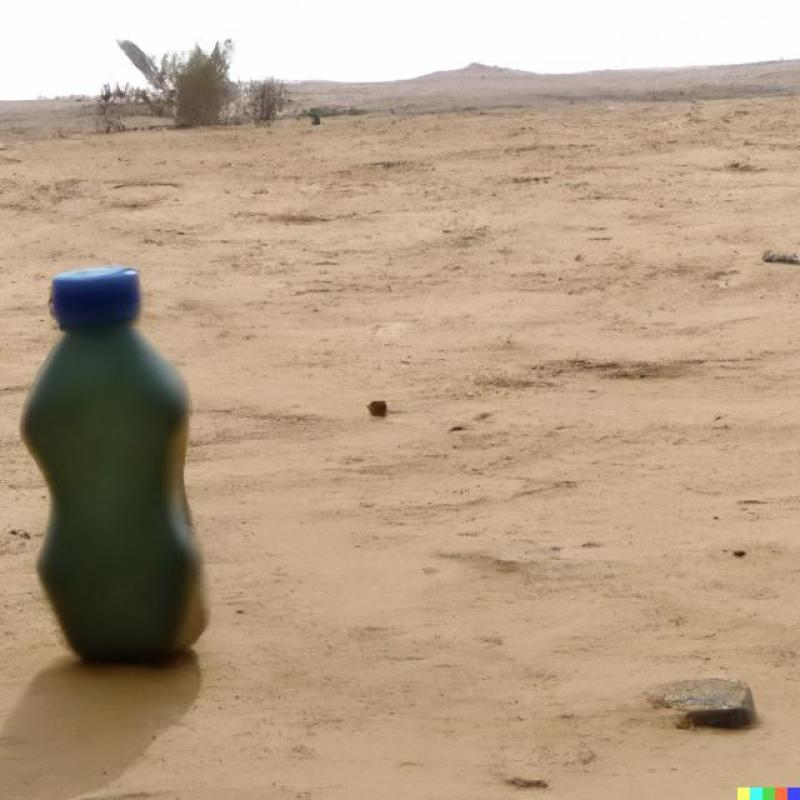botella: (19, 268, 212, 668)
